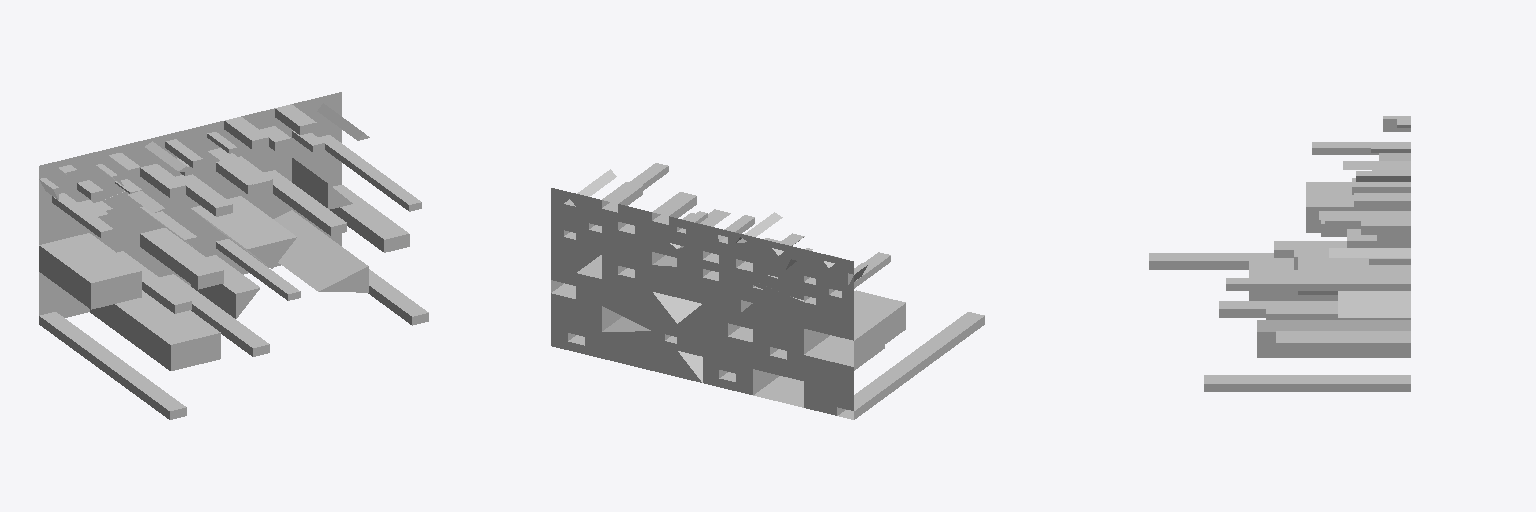
Rendered from worldP4.obj.
3 renders of one model, left to right at view 1: azimuth 30°, elevation 25°; view 2: azimuth 150°, elevation 25°; view 3: azimuth 270°, elevation 25°, orthographic.
Parts seen in each view (by area): view 1: Plane.035; view 2: Plane.035; view 3: Plane.035.
Part boxes in pixels (x1,y1,x2,y2): Plane.035: (39, 92, 428, 419); Plane.035: (551, 163, 984, 419); Plane.035: (1149, 116, 1410, 391).
Bounding box in the file's own units: 640 × 320 × 478.